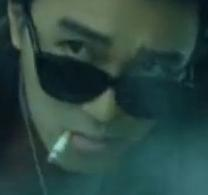smoke: (46, 128, 70, 162)
